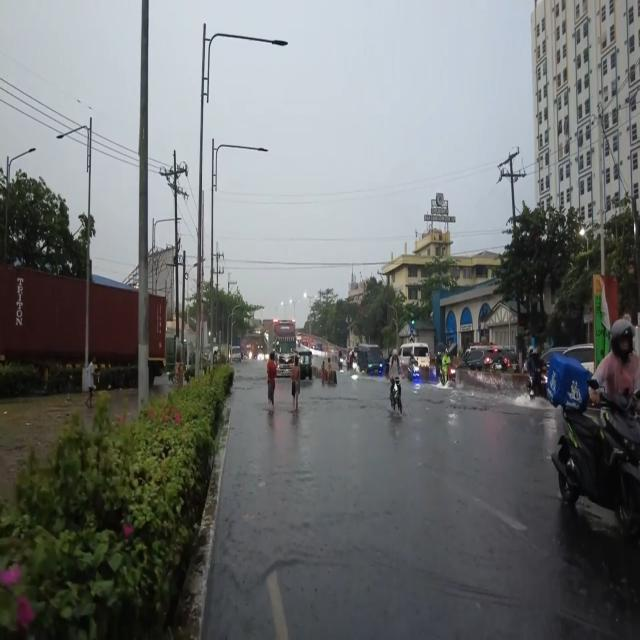half: (609, 316, 636, 362)
